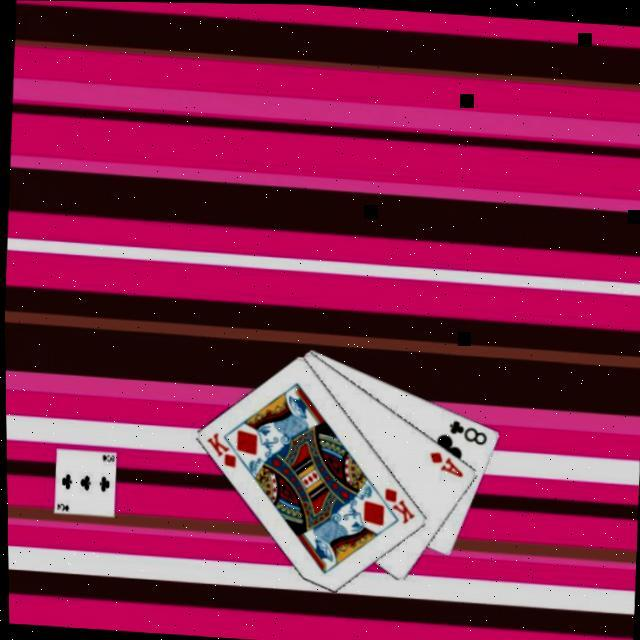8C: (444, 416, 488, 447)
AD: (424, 448, 466, 480)
KD: (378, 484, 416, 526), (200, 429, 238, 471)
